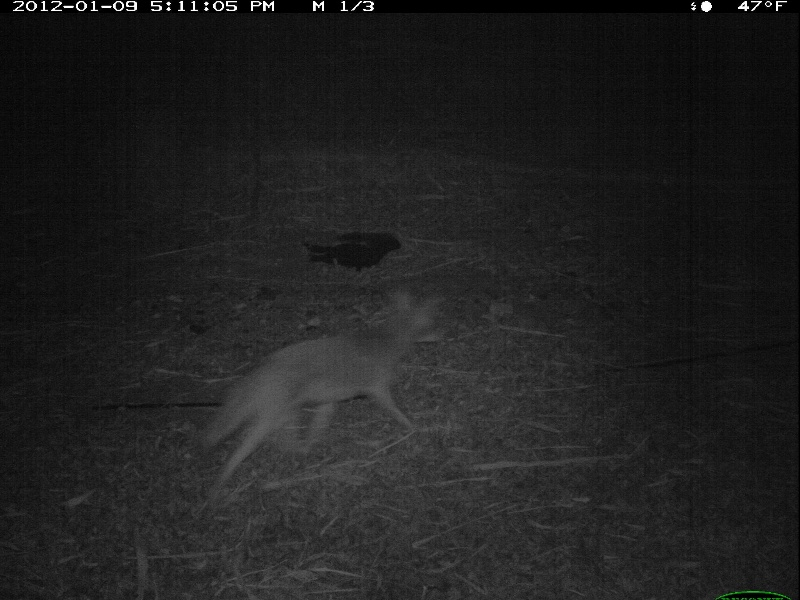coyote: (195, 285, 446, 502)
